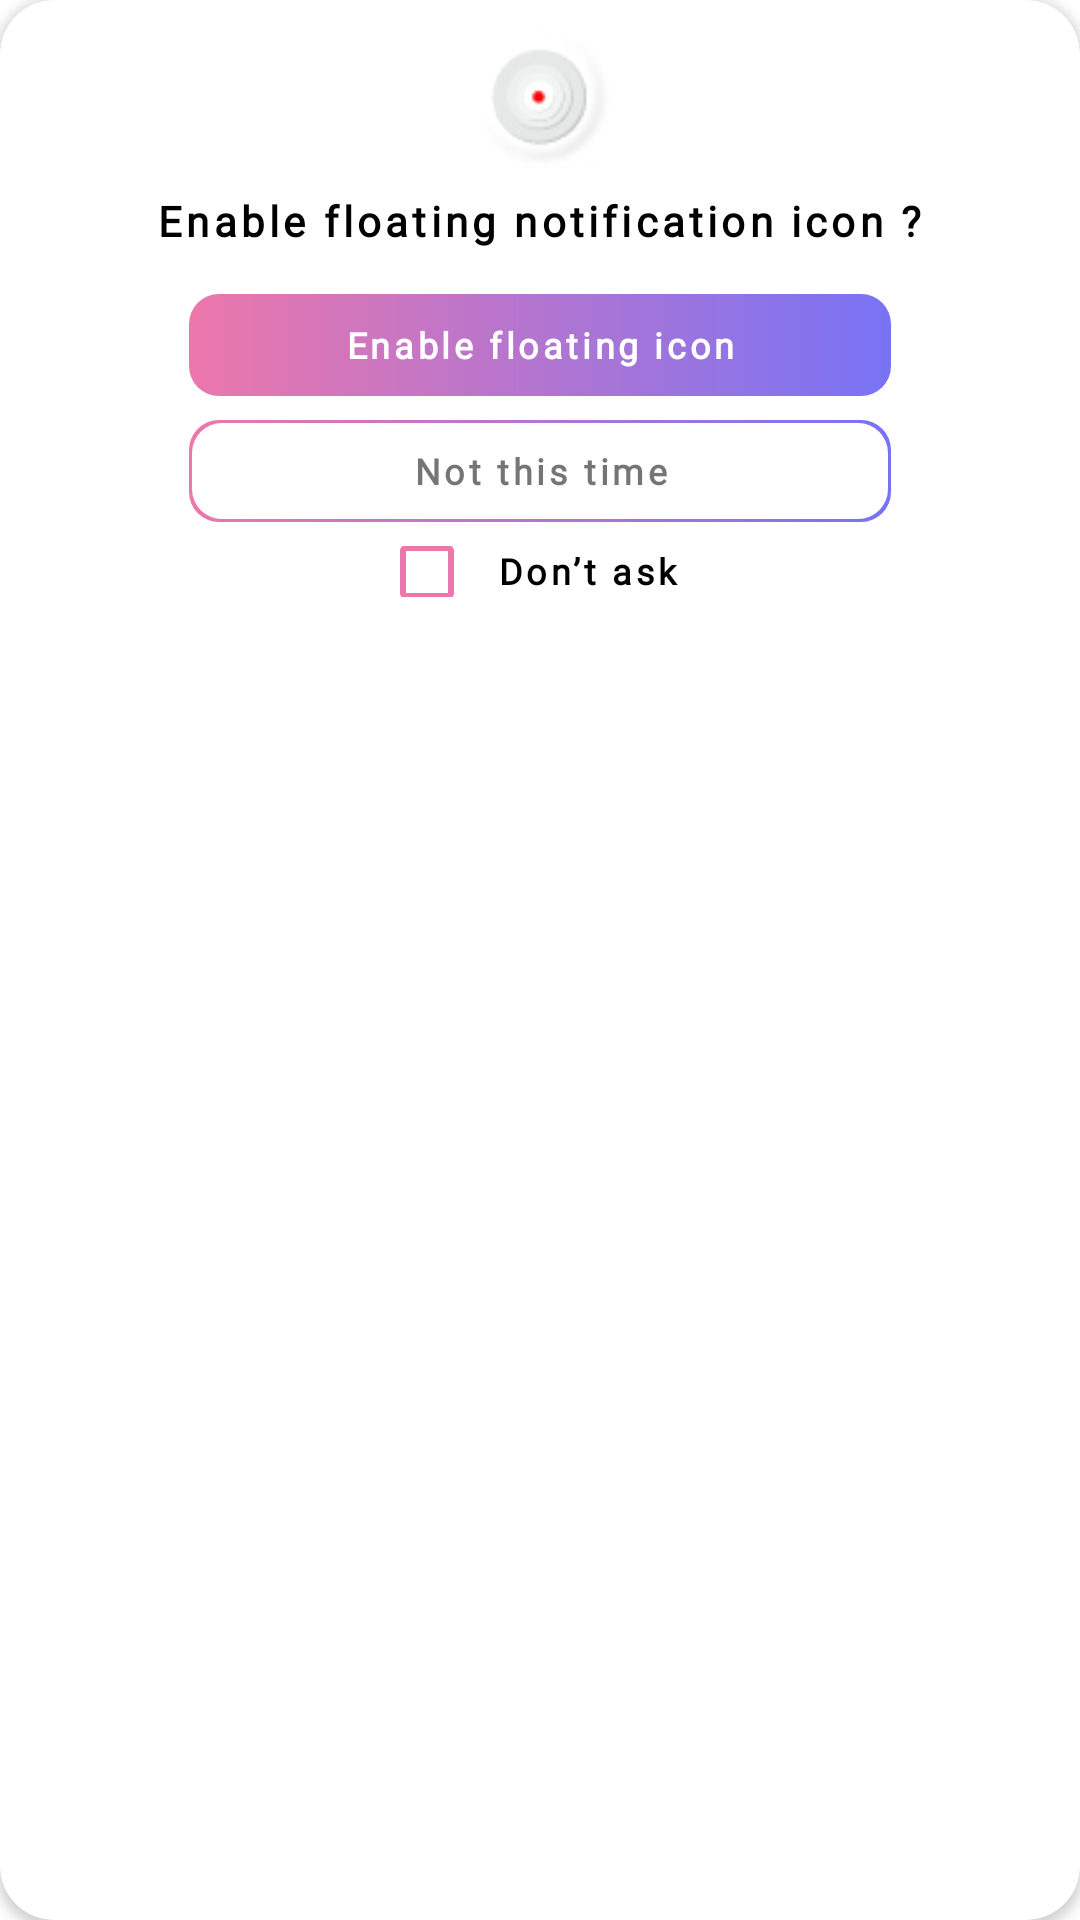

Icon click points for this 1080 × 1920 phone screenshot, format [x,y]:
record: [540,98]
